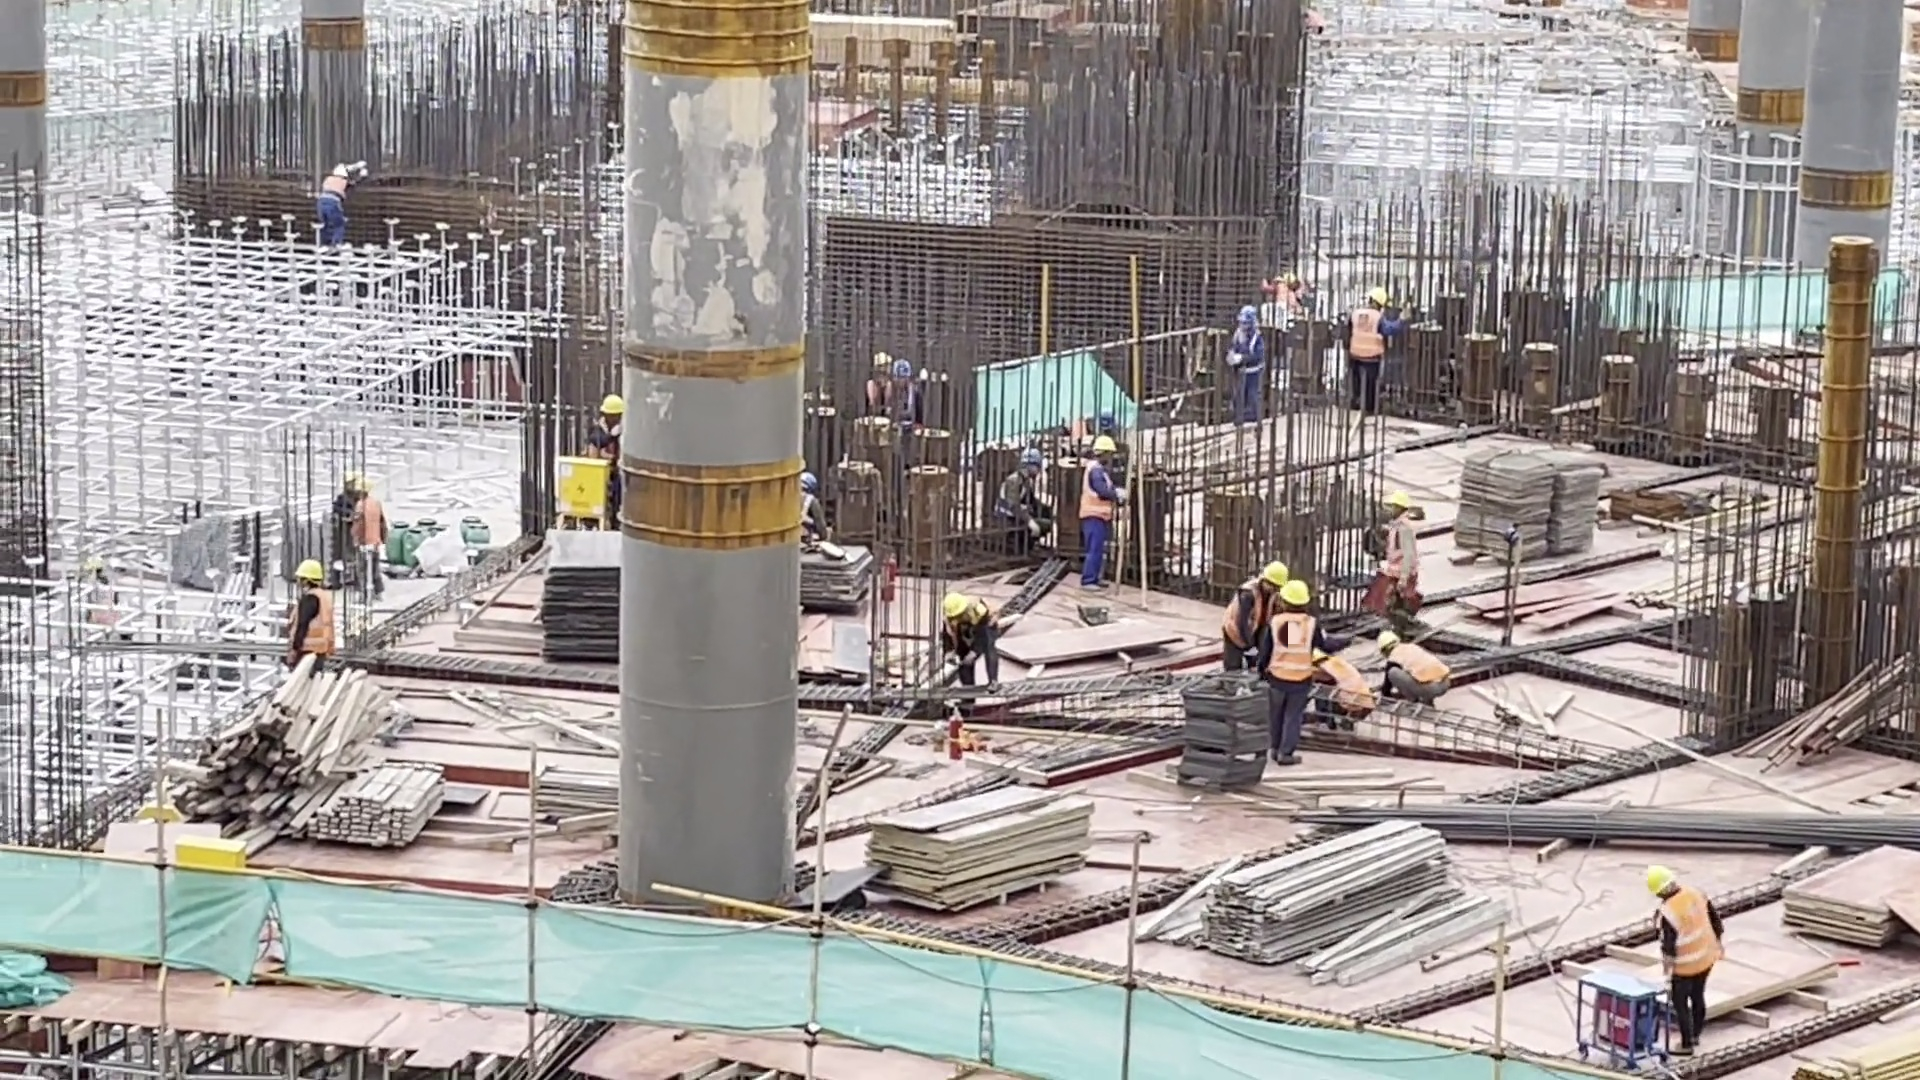helmet: (1642, 863, 1673, 897), (1281, 578, 1313, 607), (1263, 557, 1290, 587), (1373, 628, 1401, 653), (942, 591, 967, 619), (295, 558, 323, 581), (596, 393, 624, 417), (1093, 435, 1119, 455), (1390, 494, 1414, 510)
person: (1638, 852, 1722, 1059), (1264, 579, 1322, 768), (1338, 286, 1413, 414), (1353, 496, 1422, 616), (1075, 436, 1124, 592), (284, 548, 348, 663), (1217, 557, 1286, 663), (1366, 626, 1457, 706), (937, 588, 1000, 692), (997, 441, 1055, 550), (311, 159, 369, 252), (1229, 299, 1268, 423), (348, 476, 386, 597), (800, 465, 835, 541), (588, 381, 620, 461), (331, 470, 353, 583), (891, 352, 922, 425), (866, 343, 889, 416), (1264, 277, 1297, 323)
vest: (1659, 888, 1721, 979), (1222, 577, 1274, 649), (1272, 613, 1322, 686), (1322, 658, 1375, 713), (1387, 641, 1453, 684), (294, 589, 338, 655), (1078, 457, 1117, 521), (1351, 307, 1388, 359), (1230, 326, 1266, 374)
